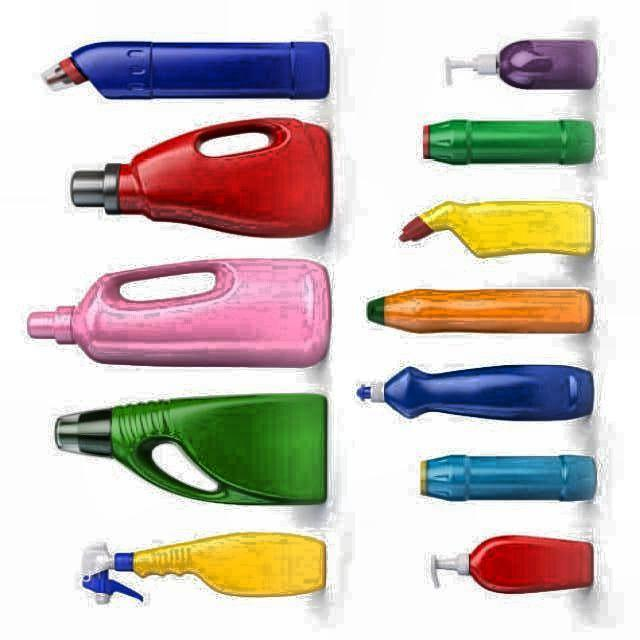plastic: (28, 259, 330, 367), (71, 119, 331, 237), (55, 394, 326, 504), (82, 532, 325, 602), (44, 42, 329, 99), (356, 365, 594, 421), (400, 201, 594, 257), (368, 289, 592, 332), (431, 535, 591, 593), (425, 455, 596, 501), (424, 119, 595, 163), (446, 40, 598, 89)
